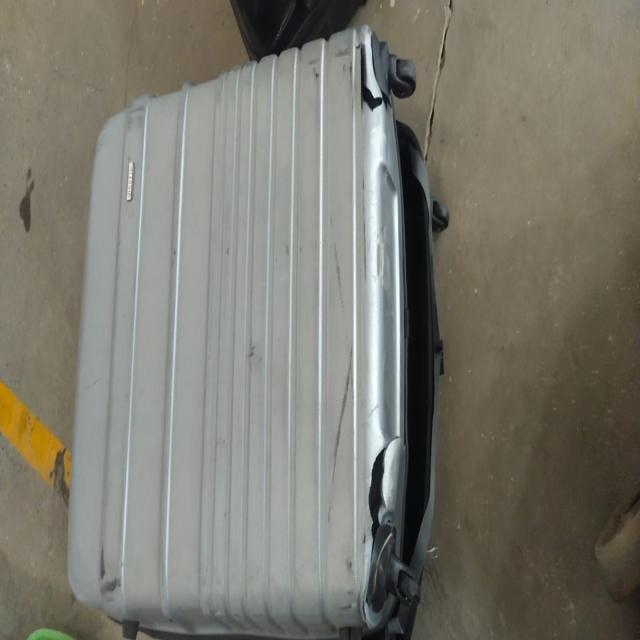Damage-bag: (396, 122, 442, 581), (366, 522, 420, 611), (360, 44, 384, 111), (369, 450, 384, 539), (101, 578, 120, 594), (100, 547, 105, 576)
